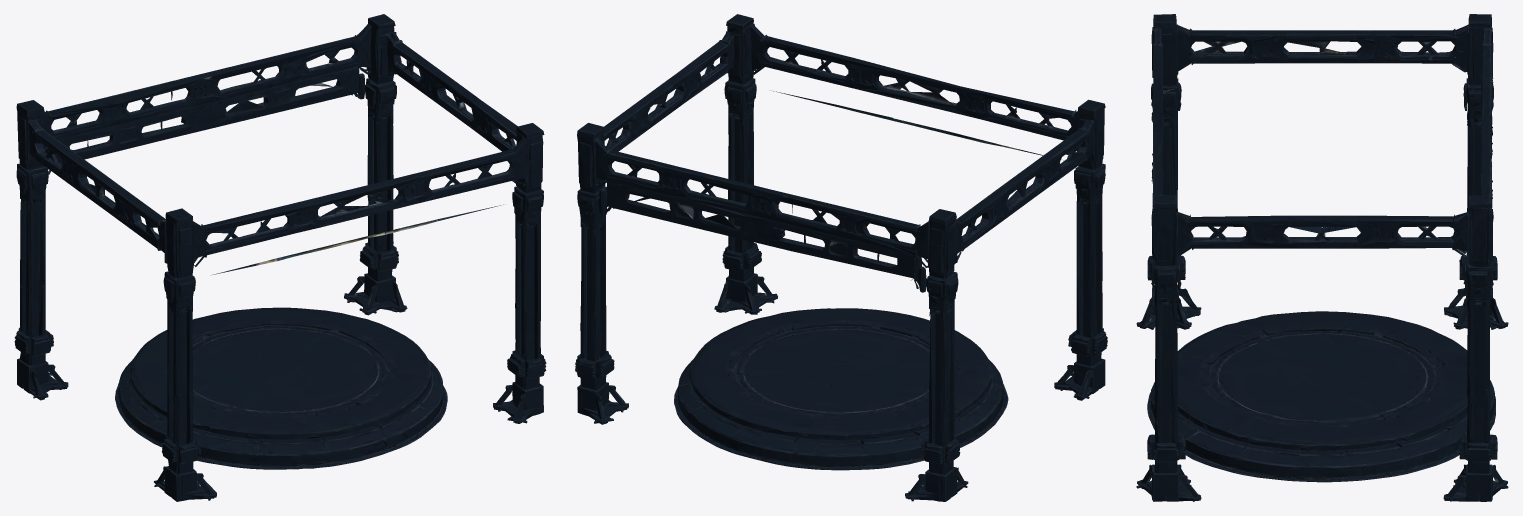
Rendered from chamber.gltf.
The picture shows the model from 3 angles, left to right: view 1: azimuth 30°, elevation 25°; view 2: azimuth 150°, elevation 25°; view 3: azimuth 270°, elevation 25°; orthographic projection. The views are drawn at different scales.
Size of the model in its own units: 1.9 by 1.38 by 1.55.
Materials: 1 (1 with a texture image).
